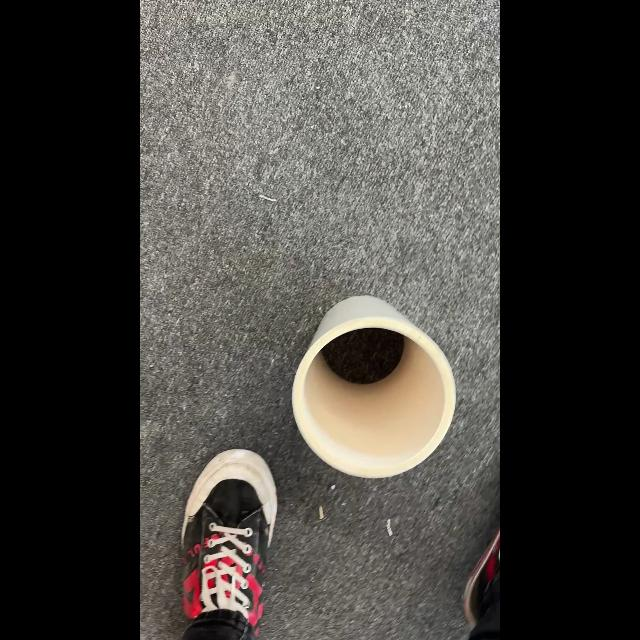CORAL: (291, 294, 457, 478)
